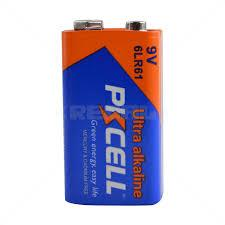9V Battery: (61, 20, 164, 206)
